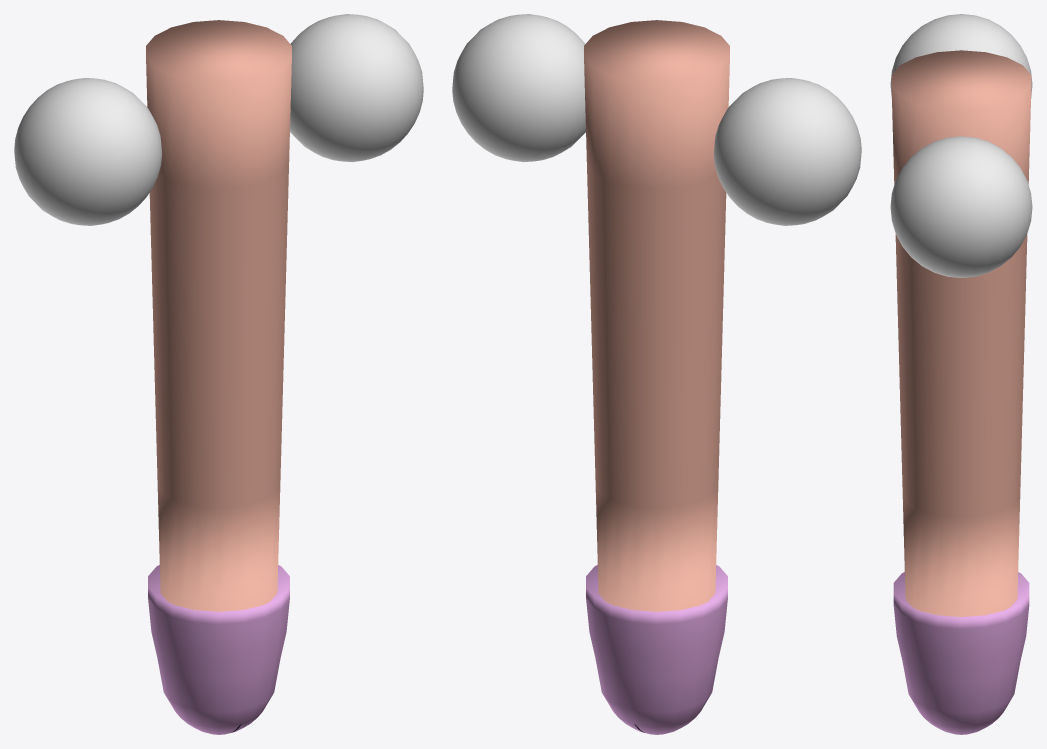
Rendered from Chin.FBX.
The picture shows the model from 3 angles, left to right: view 1: azimuth 30°, elevation 25°; view 2: azimuth 150°, elevation 25°; view 3: azimuth 270°, elevation 25°; orthographic projection. The views are drawn at different scales.
Parts seen in each view (by area): view 1: Cone001, Sphere001, Sphere002; view 2: Cone001, Sphere001, Sphere002; view 3: Cone001, Sphere002, Sphere001.
Boxes of the visible parts, bbox=[...] form: Cone001: bbox=[146, 20, 291, 734]; Sphere001: bbox=[14, 78, 161, 225]; Sphere002: bbox=[290, 14, 423, 162]; Cone001: bbox=[584, 20, 729, 734]; Sphere001: bbox=[714, 78, 861, 225]; Sphere002: bbox=[452, 14, 585, 162]; Cone001: bbox=[891, 50, 1031, 734]; Sphere002: bbox=[890, 136, 1032, 277]; Sphere001: bbox=[890, 14, 1032, 98].
Bounding box in the file's own units: 60.73 × 101 × 20.
1 material, 1 textured.
